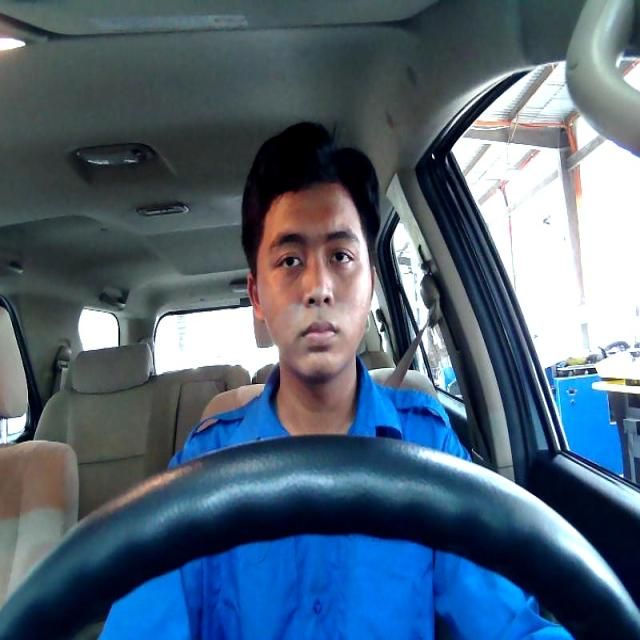focused: (246, 179, 374, 380)
